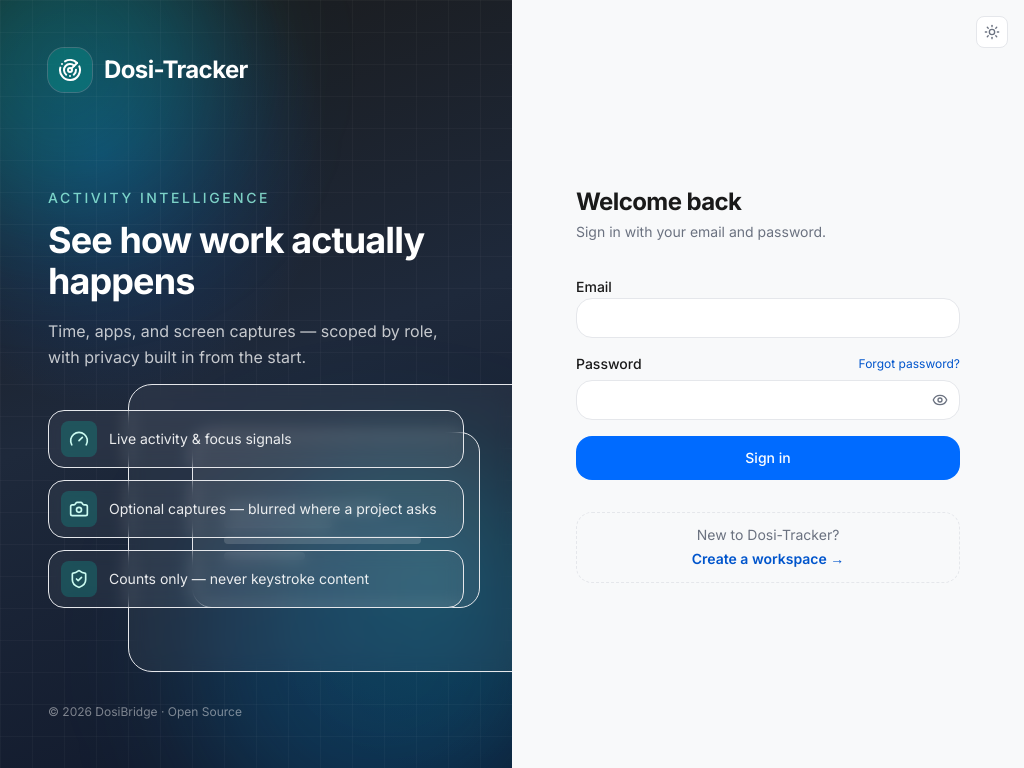
login page — sign-in form › a rejected login shows a human error message and re-enables the form instead of navigating
Type "ayesha@dosi.dev" into the field labelled "Email" at [768, 318], box [576, 298, 960, 338]
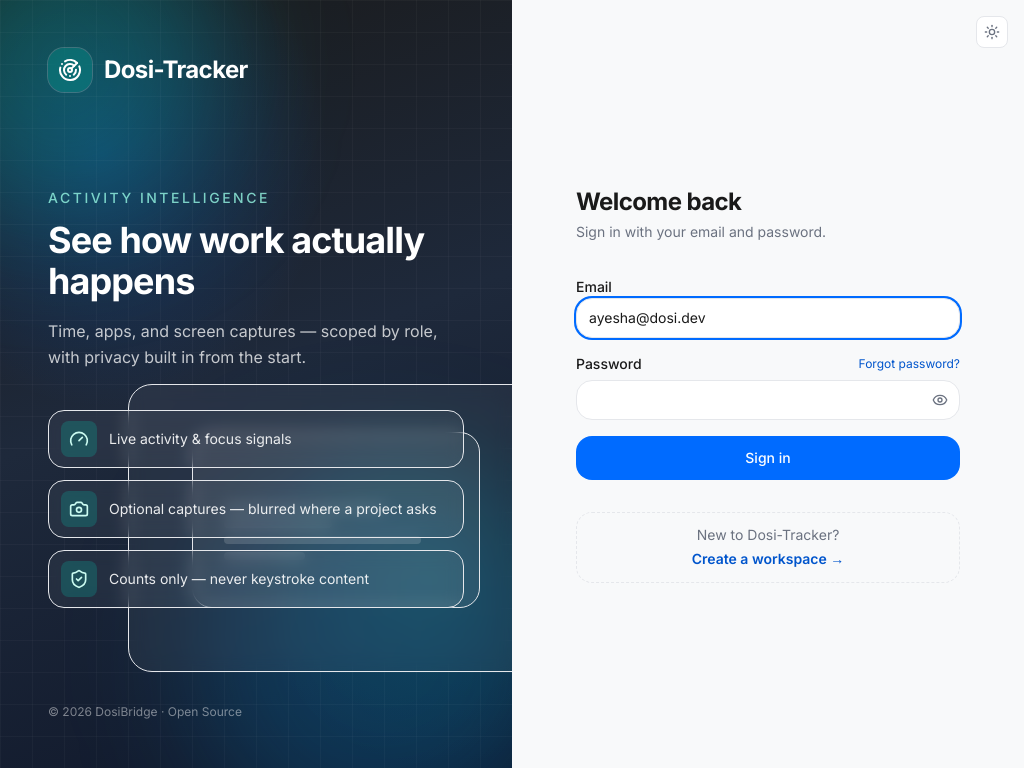
Type "wrong-pass" into the password field labelled "Password" at [768, 400], box [576, 380, 960, 420]
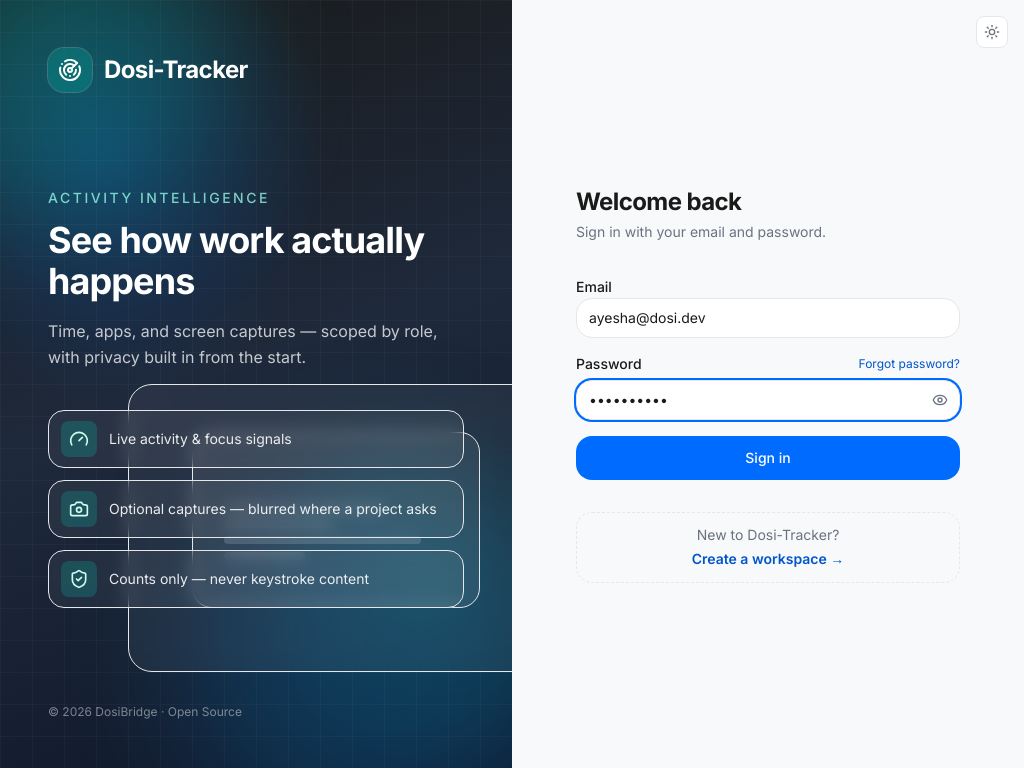
Click the button "Sign in" at [768, 458], box [576, 436, 960, 480]
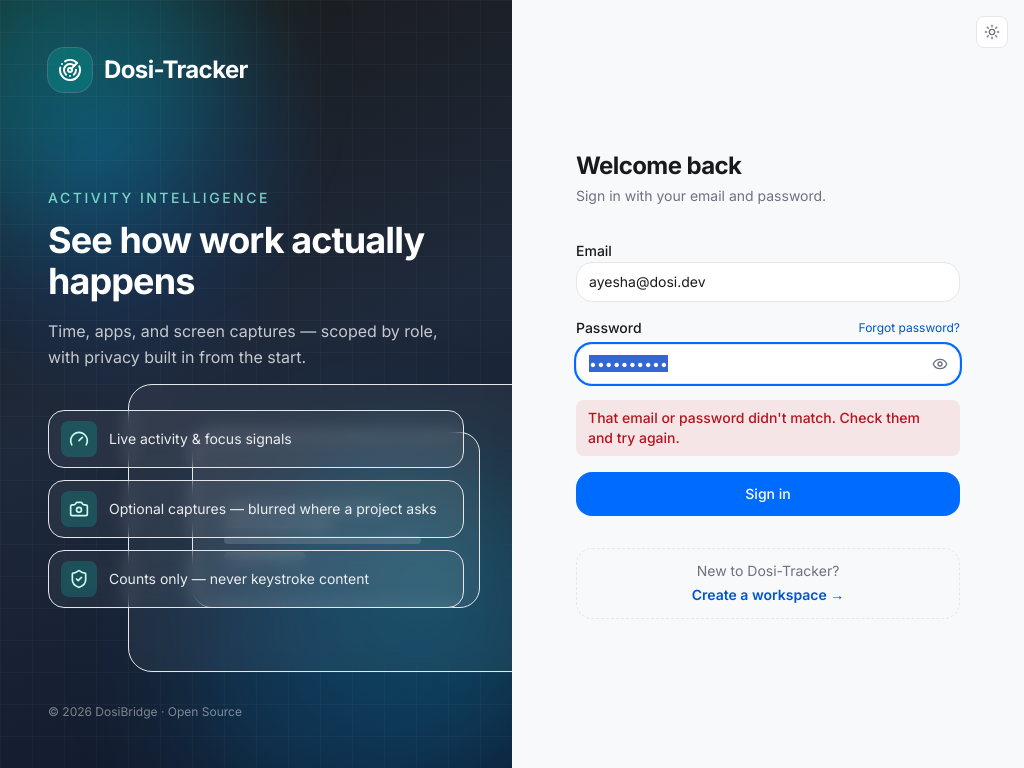
Expected: the button "Sign in" is enabled, [576, 472, 960, 516]
Expected: the text "That email or password didn't match. Check them and try again." is shown, [576, 400, 960, 456]
